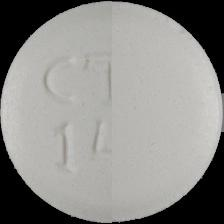42254-025: (0, 0, 224, 224)
